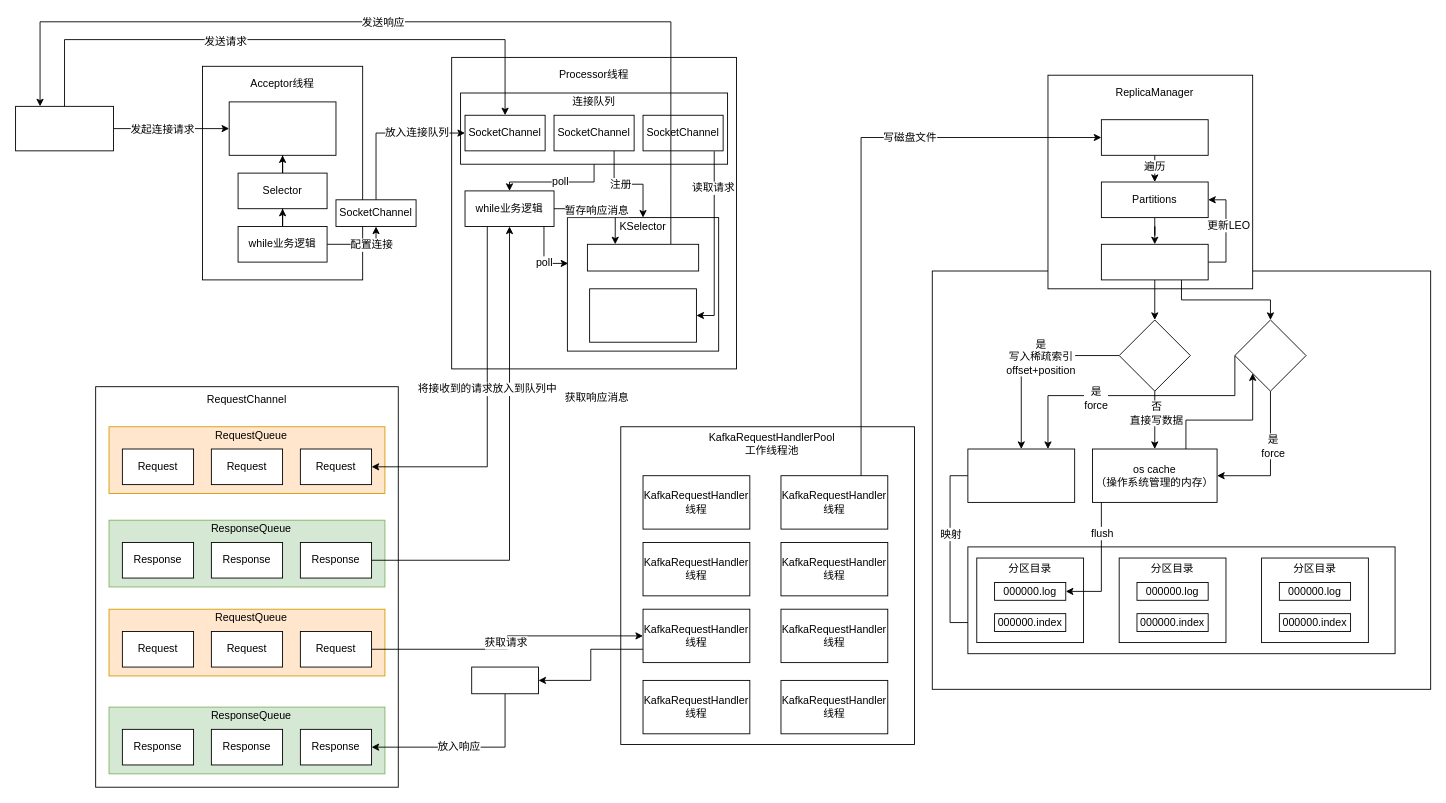
Image size: 1446x803. Some labels were removed from this diagram. Here are the shapes that lost their labels. From the top down, the box of each, then its label:
(15, 105, 113, 151): Kafka客户端
(228, 101, 336, 155): ServerSocketChannel 监听9092端口
(1100, 119, 1208, 155): LogManager
(587, 243, 699, 271): <id, KafkaChannel>
(1100, 243, 1208, 280): Log
(589, 288, 696, 342): completedReceives <NetworkReceive>
(1118, 319, 1190, 391): 日志文件是否写入超过4096字节
(1234, 319, 1306, 391): cache中的数据是否超过1万条
(967, 448, 1075, 502): mmap （MappedByteBuffer） （基于内存实现的）
(471, 666, 538, 694): 处理结果
